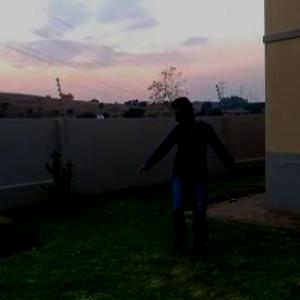land: (138, 99, 240, 258)
